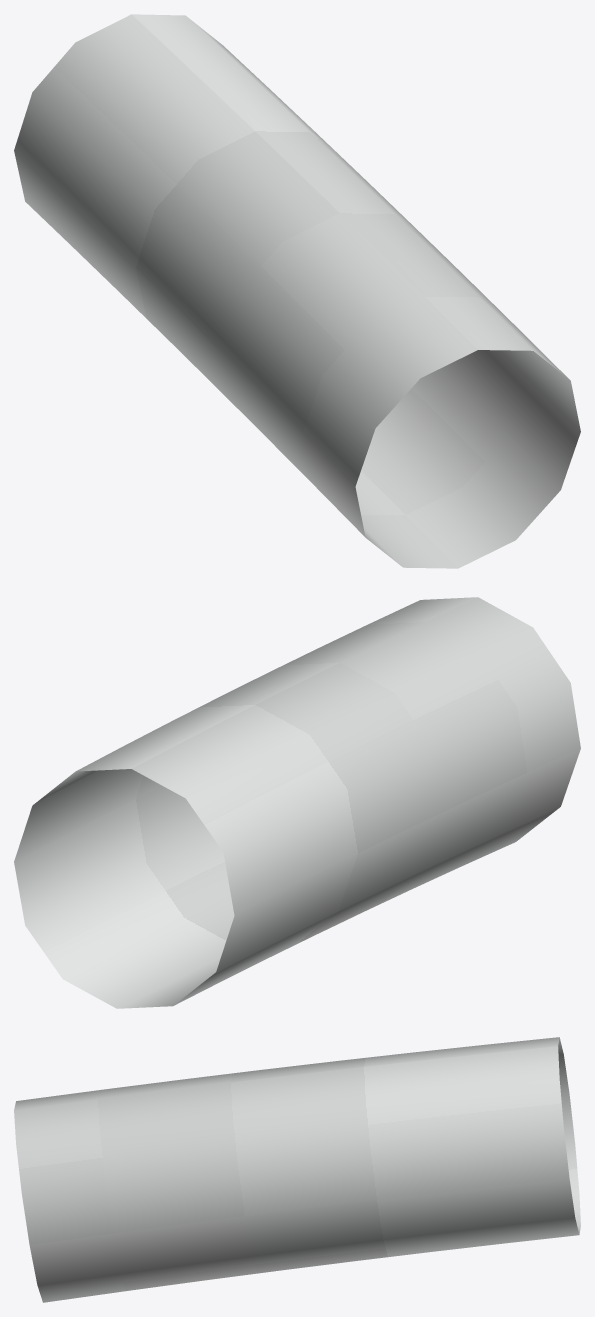
The model's file is luminairearm_truss15ftdouble_c8.obj.
3 views of the same model, one above another, from view 1: azimuth 30°, elevation 25°; view 2: azimuth 150°, elevation 25°; view 3: azimuth 270°, elevation 25° (orthographic). The views are drawn at different scales.
Parts seen in each view (by area): view 1: luminairearm_truss15ftdouble_c8; view 2: luminairearm_truss15ftdouble_c8; view 3: luminairearm_truss15ftdouble_c8.
Part boxes in pixels (x1,y1,x2,y2): luminairearm_truss15ftdouble_c8: (14,14,580,568); luminairearm_truss15ftdouble_c8: (14,597,580,1008); luminairearm_truss15ftdouble_c8: (14,1037,580,1302).
Bounding box in the file's own units: 0.1917 × 0.256 × 0.5317.
